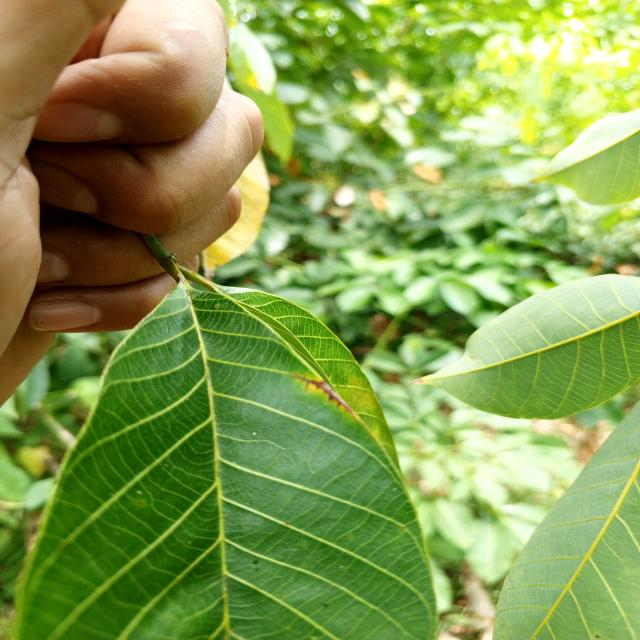Corynespora: (288, 372, 350, 412)
